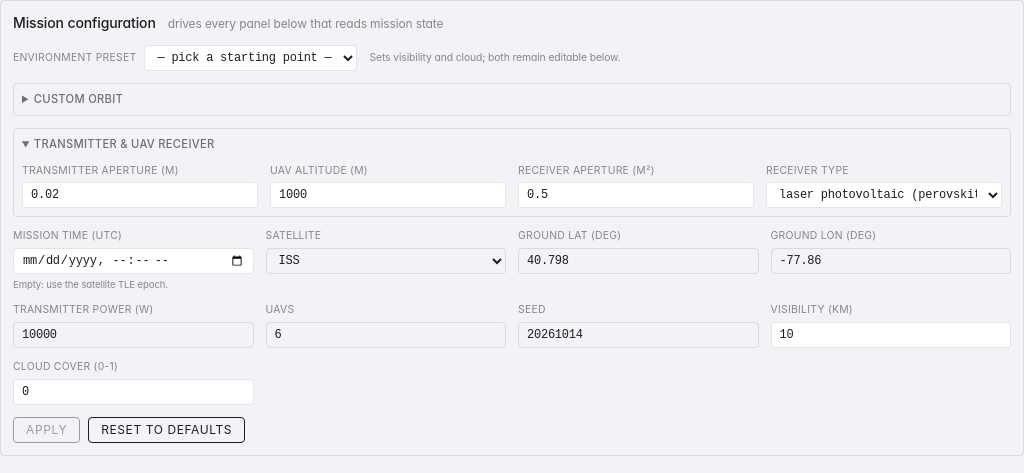
it: MissionConfigBar › typing a new transmitter power enables Apply and shows the dirty badge
This screenshot has width=1024, height=473.
Step 1. Replace the text in the number field named "transmitter power watts" with "50000" → (133, 335), box [13,322,254,348]
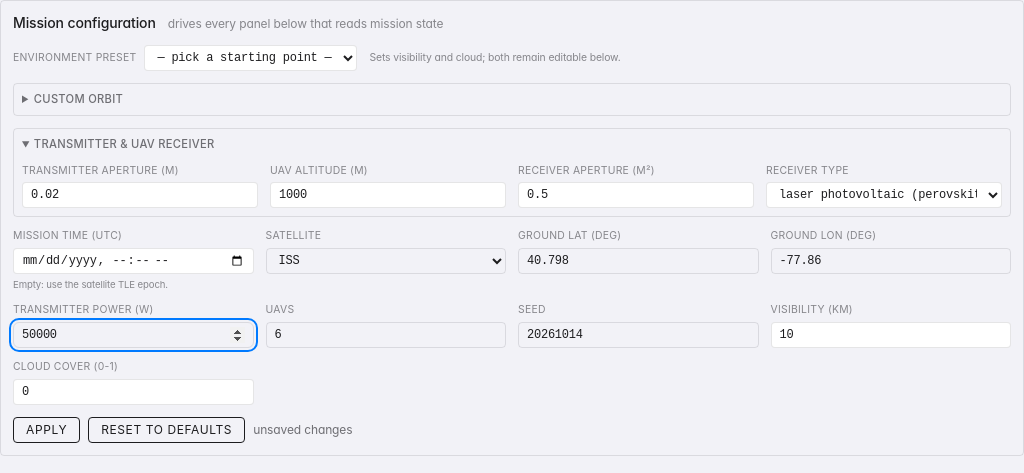
Expected: the button with test id "mission-apply" is enabled, [13,417,80,443]
Expected: the text "unsaved changes" is shown, [253,422,352,438]
